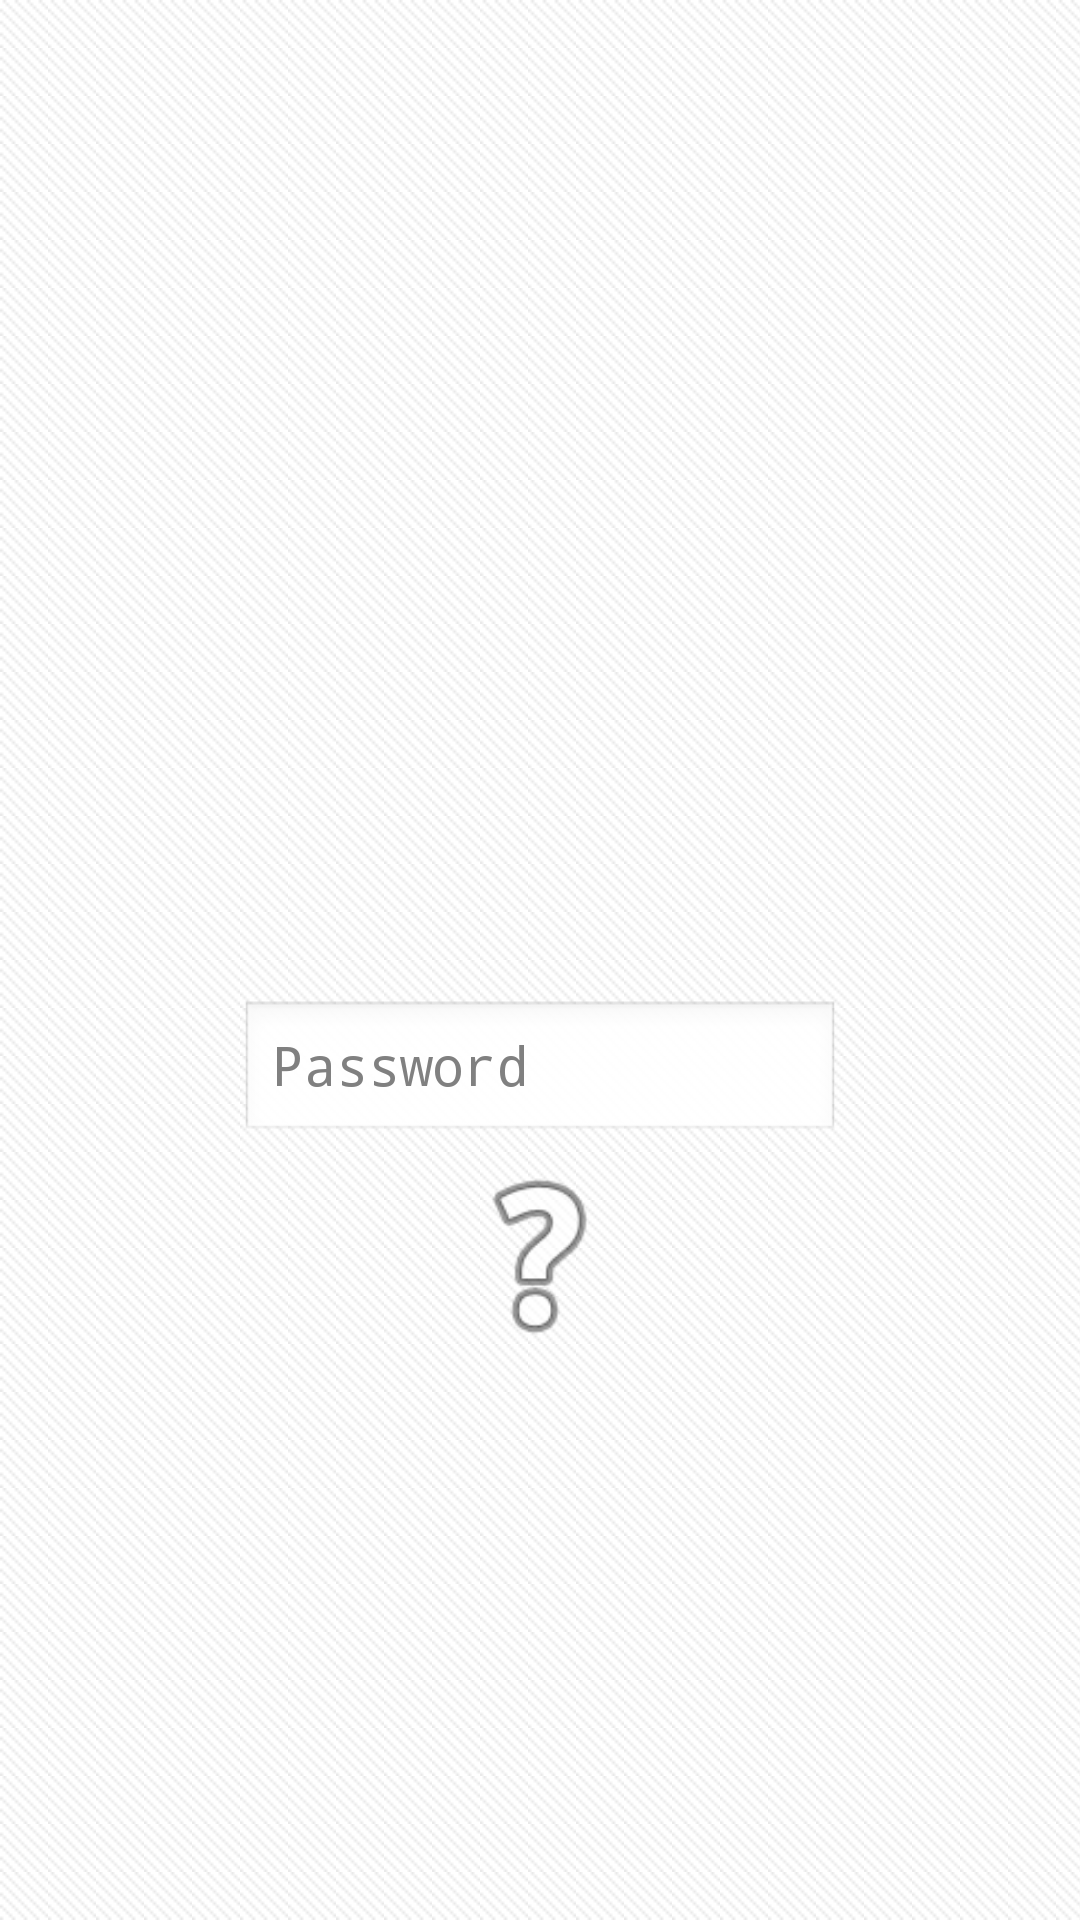

Screen size 1080 x 1920. Icon name, then its center in pixels as (x,y):
help: (539,1256)
